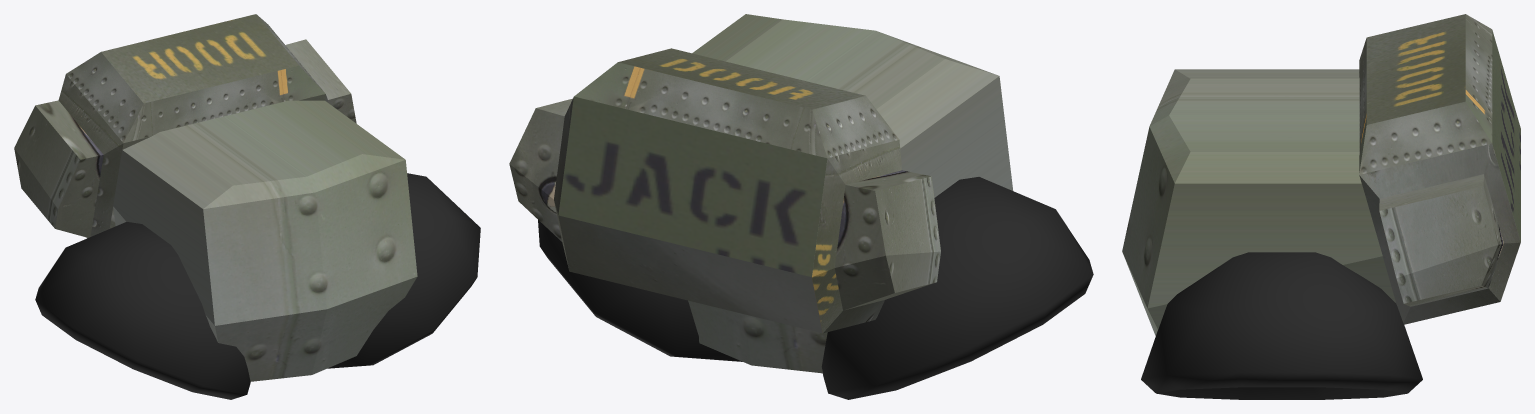
The model's file is robot 4 pelvis.fbx.
The picture shows the model from 3 angles, left to right: view 1: azimuth 30°, elevation 25°; view 2: azimuth 150°, elevation 25°; view 3: azimuth 270°, elevation 25°; orthographic projection. The views are drawn at different scales.
Parts seen in each view (by area): view 1: Cube.031; view 2: Cube.031; view 3: Cube.031.
Boxes of the visible parts, box(x1,y1,x2,y2) form: Cube.031: box(14, 14, 480, 399); Cube.031: box(509, 14, 1093, 399); Cube.031: box(1122, 14, 1520, 399).
Size of the model in its own units: 269 by 174 by 197.
